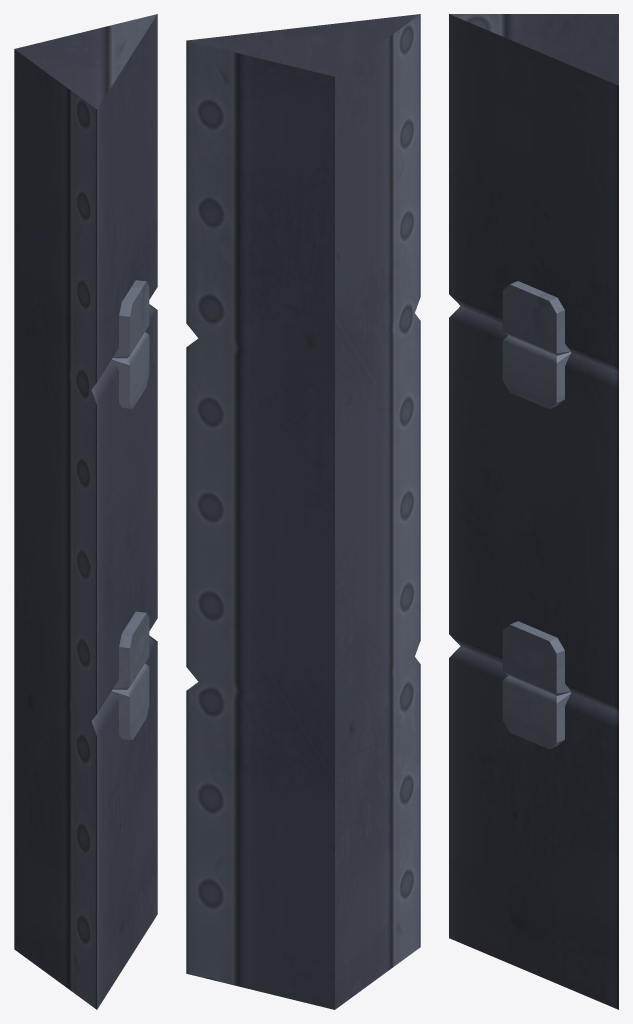
The model's file is obj_spaceship_corner01.fbx.
3 views of the same model, side by side, from view 1: azimuth 30°, elevation 25°; view 2: azimuth 150°, elevation 25°; view 3: azimuth 270°, elevation 25° (orthographic). The views are drawn at different scales.
Parts seen in each view (by area): view 1: spaceship_corner01; view 2: spaceship_corner01; view 3: spaceship_corner01.
Part boxes in pixels (bbox=[...]): spaceship_corner01: bbox=[14, 14, 157, 1009]; spaceship_corner01: bbox=[186, 14, 420, 1009]; spaceship_corner01: bbox=[449, 14, 618, 1009].
Bounding box in the file's own units: 2 × 12 × 2.
